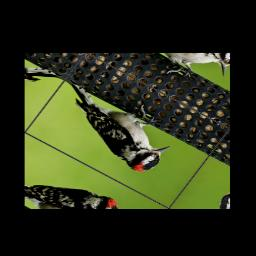Woodpecker: (43, 73, 187, 179)
